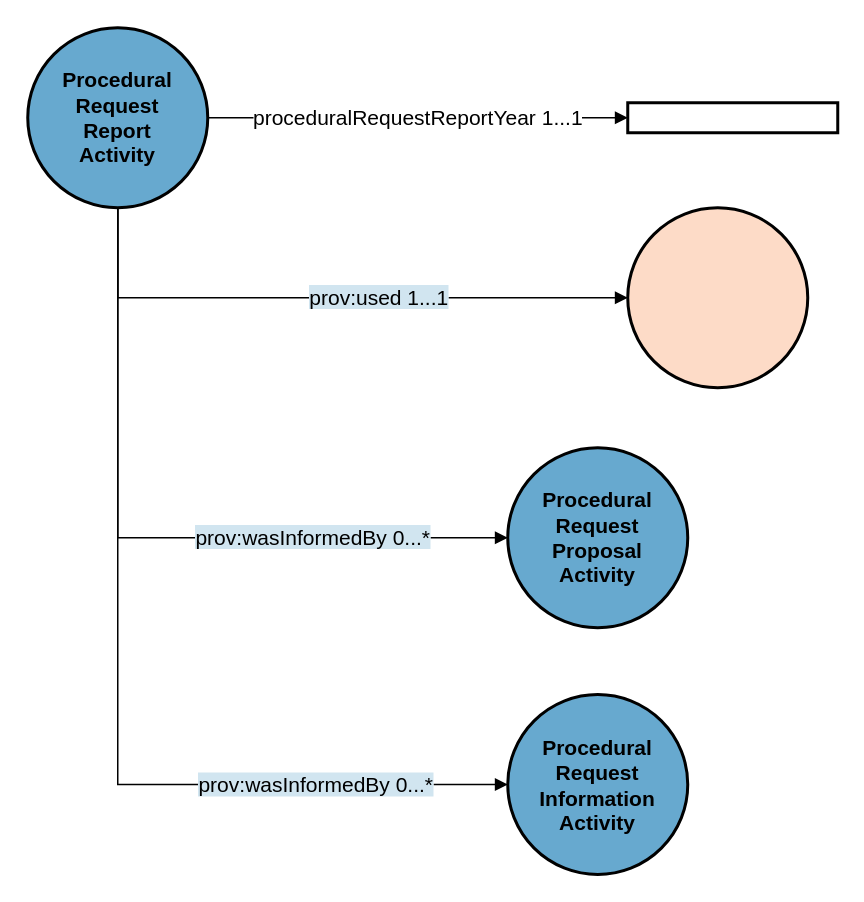
Image size: 864x902. Some labels were removed from this diagram. The shapes that lost their labels are listed below. From the top down, each one's centre as x and y in pixels, then its label:
At [732,117]: "xsd:gYear".
At [717,297]: "Procedural Request Report Entity".
